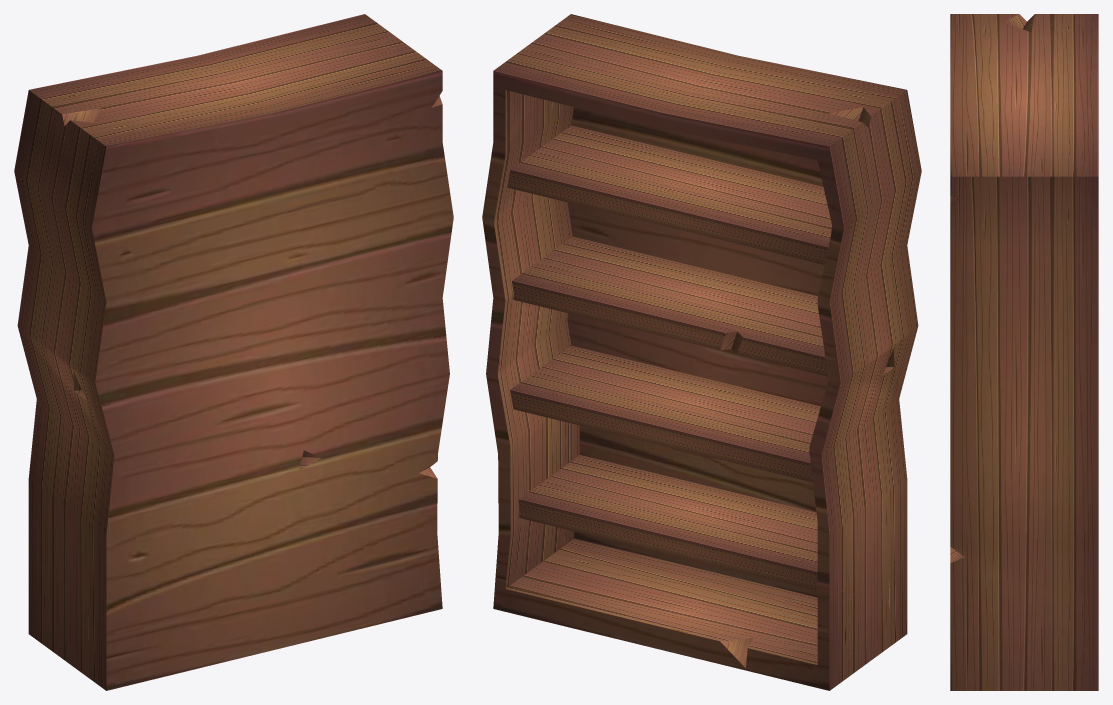
Rendered from BOOKCASE EMPTY.FBX.
The picture shows the model from 3 angles, left to right: view 1: azimuth 30°, elevation 25°; view 2: azimuth 150°, elevation 25°; view 3: azimuth 270°, elevation 25°; orthographic projection. The views are drawn at different scales.
Visible parts, largest first — view 1: Box044; view 2: Box044; view 3: Box044.
Part boxes in pixels (bbox=[...]): Box044: bbox=[14, 14, 453, 690]; Box044: bbox=[482, 14, 921, 690]; Box044: bbox=[950, 14, 1098, 690].
Size of the model in its own units: 53.81 by 77.33 by 20.
